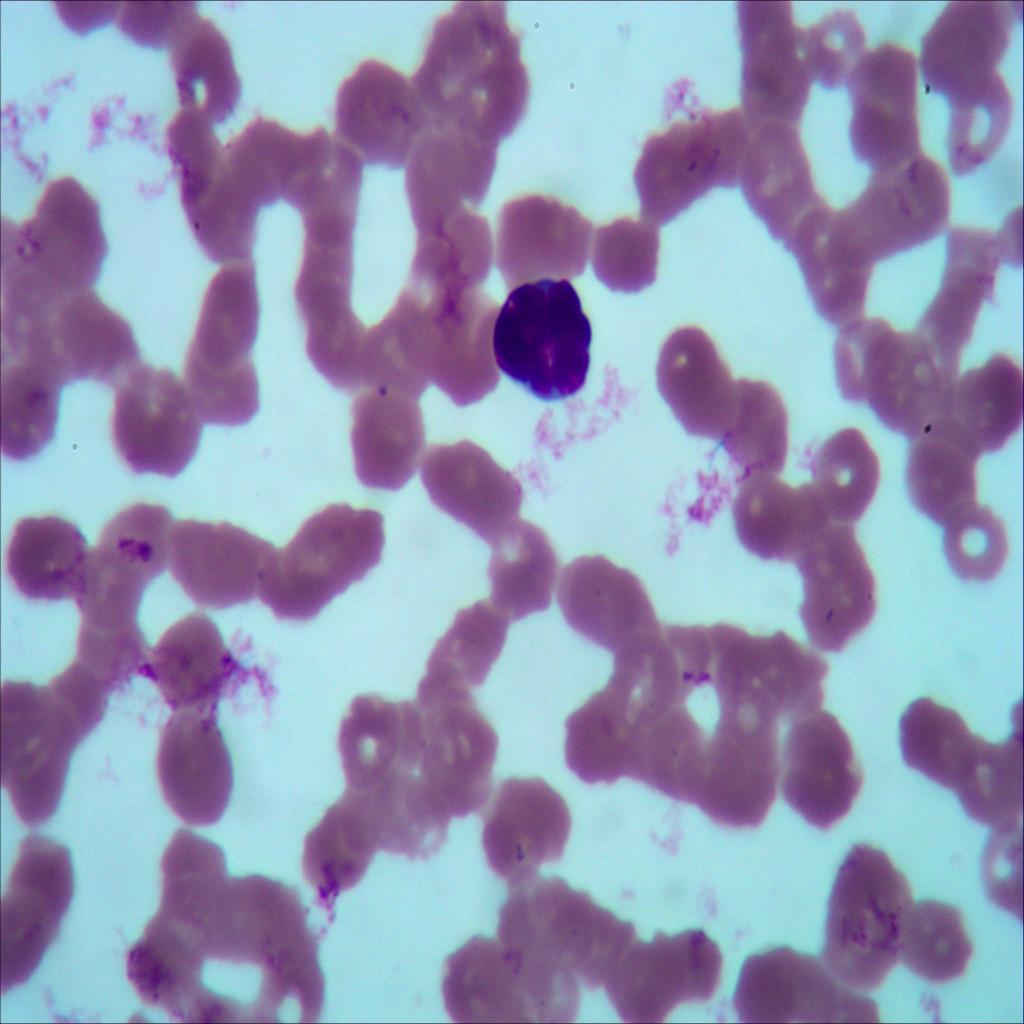Limfoblast: (484, 272, 602, 420)
